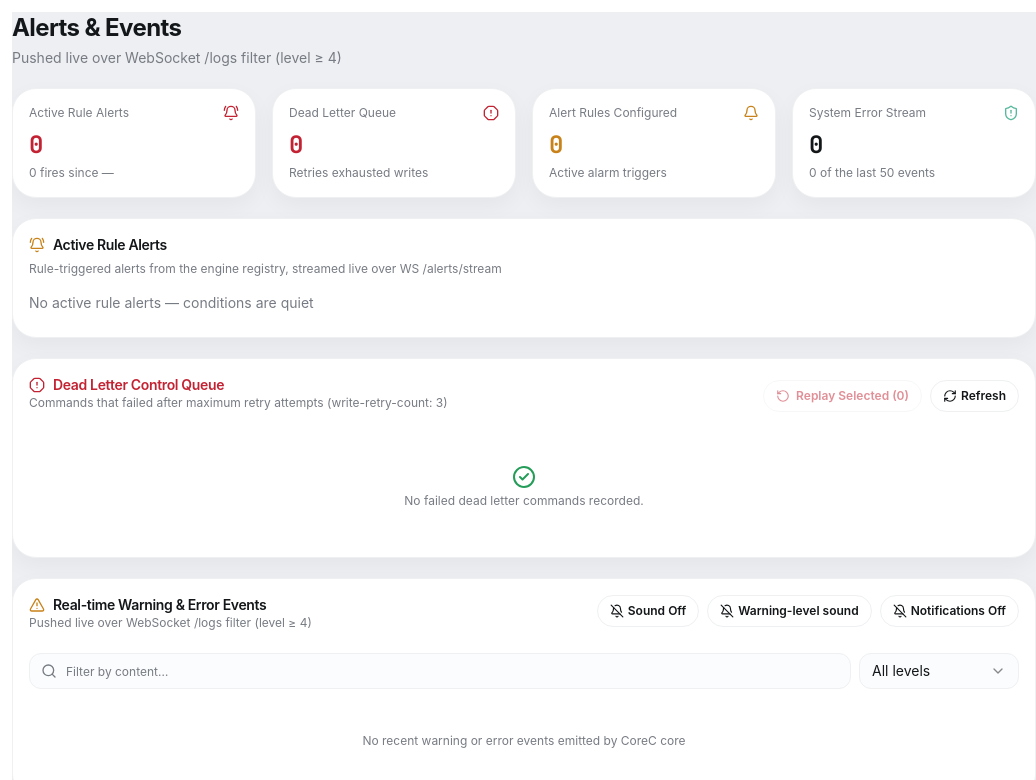
AlertsPage — preference toggles (kept here, honored globally) › sound toggle flips the shared preference and persists the legacy key
Click the button "Sound Off". click: click(648, 611)
box: x1=597 y1=595 x2=699 y2=627
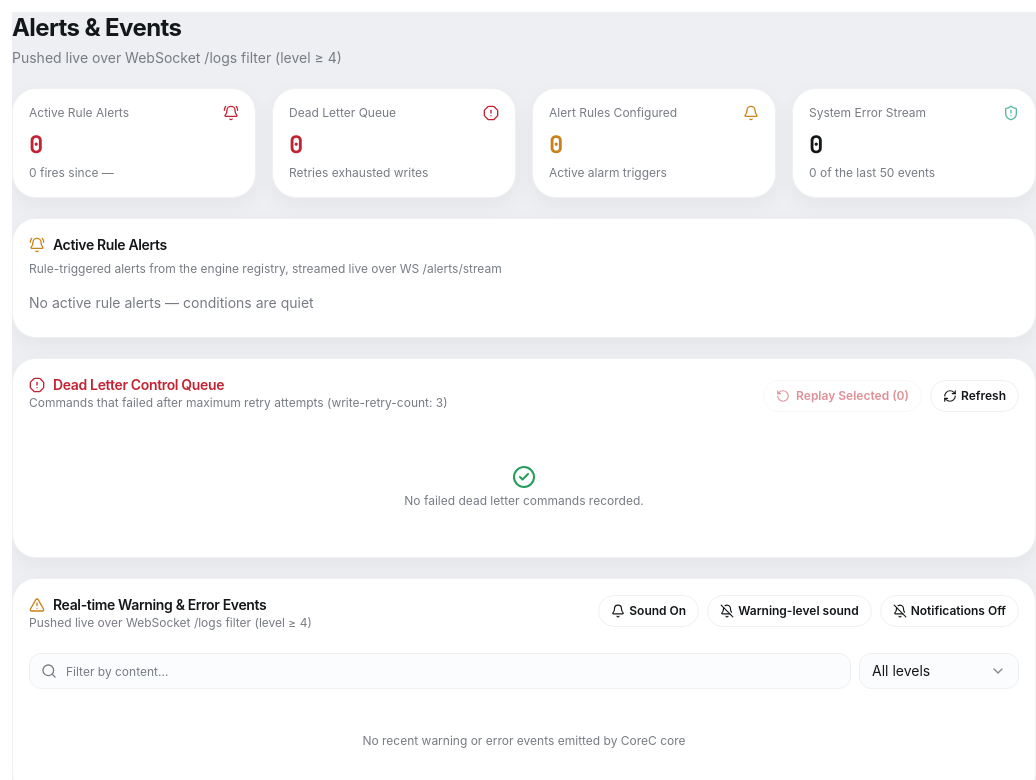
Check: the button "Sound On" is shown, box x1=598 y1=595 x2=699 y2=627
